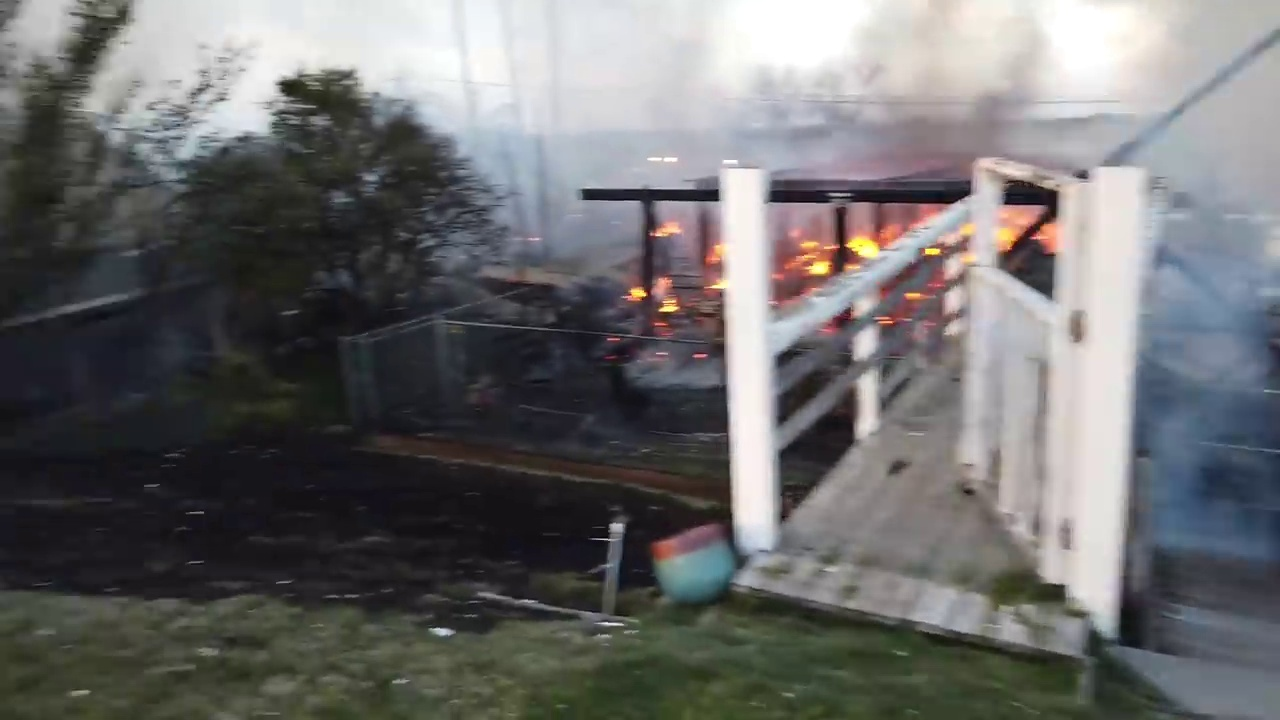fire: (587, 180, 1071, 336), (648, 220, 682, 235)
smoke: (374, 1, 1280, 179), (1131, 184, 1280, 578), (494, 178, 587, 339)
